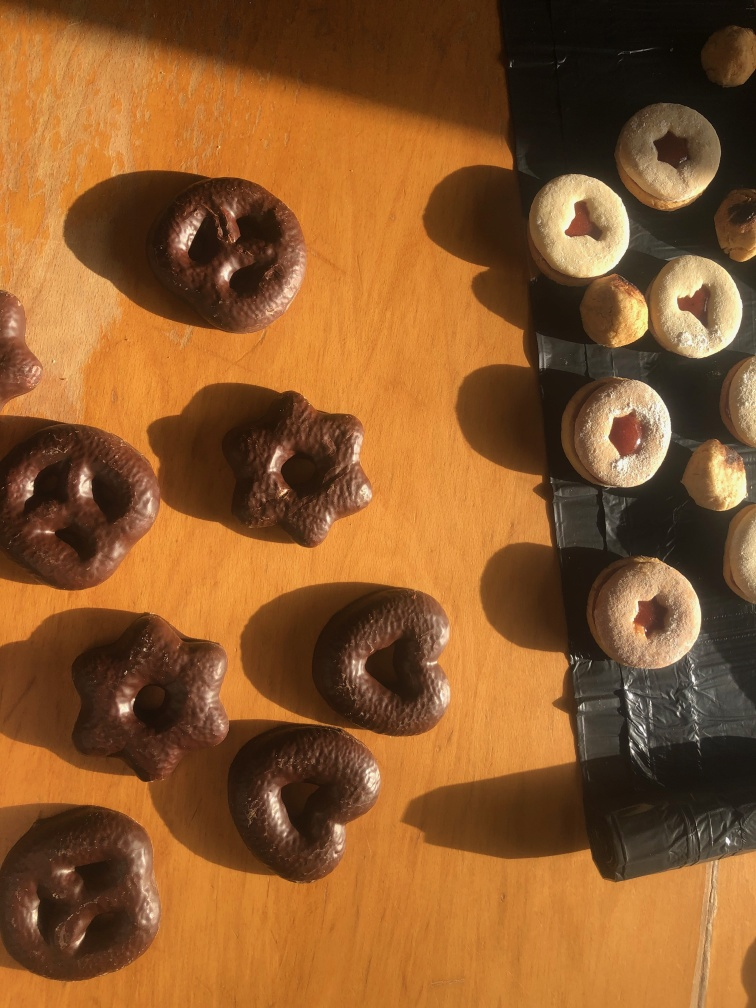bretzel: (1, 802, 163, 985), (5, 426, 159, 590), (159, 172, 309, 333)
christmas shortbread with jam: (582, 549, 708, 672), (559, 374, 670, 494), (614, 97, 721, 212), (523, 167, 631, 279), (644, 249, 742, 359)
heart: (217, 722, 383, 885), (310, 583, 458, 738)
snowball: (678, 433, 748, 517), (580, 275, 652, 349), (694, 20, 756, 83), (713, 185, 756, 261)
star: (215, 389, 375, 551), (1, 288, 43, 412)
